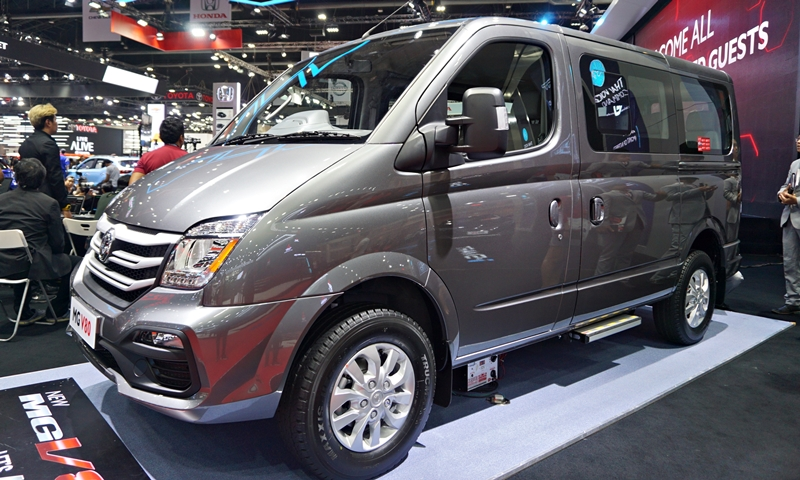van: (70, 16, 743, 480)
